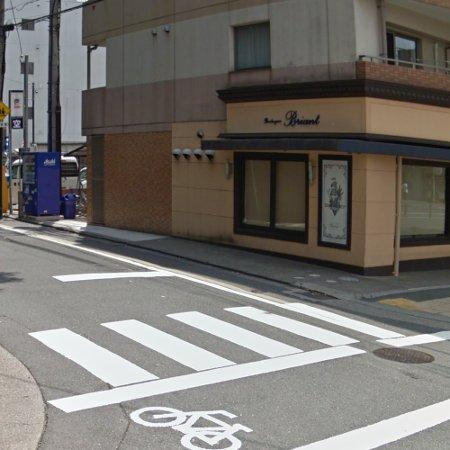crosswalks: (7, 299, 406, 410)
